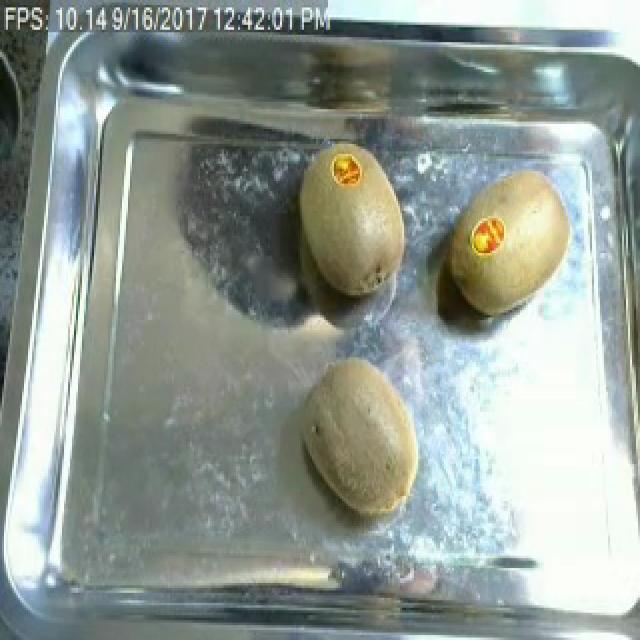Fruit: (294, 345, 428, 528), (442, 159, 582, 325), (284, 137, 416, 310)
